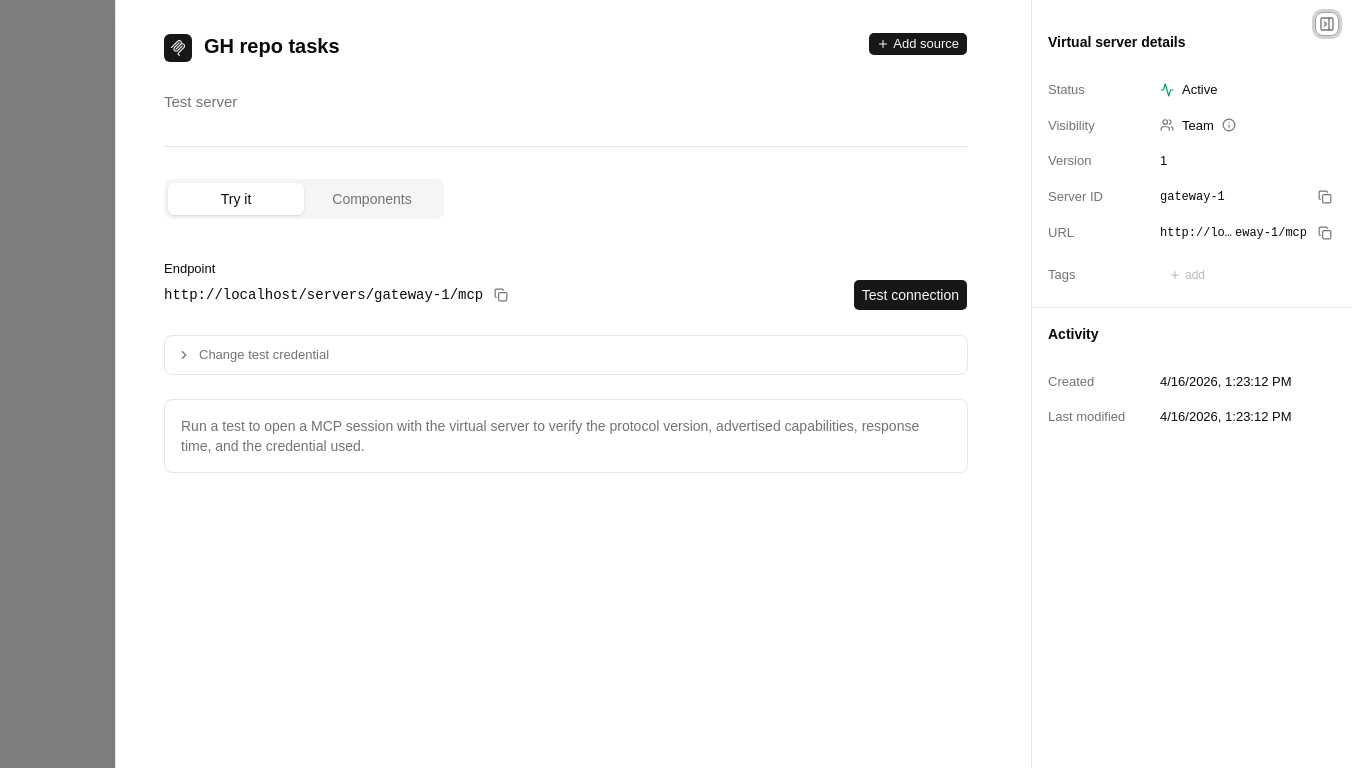
VirtualServerDetailsPanel test connection tab › excludes disabled components from the aggregate used for the handshake comparison
Step 1. Click the tab "Try it" → (236, 199), box [168, 183, 304, 215]
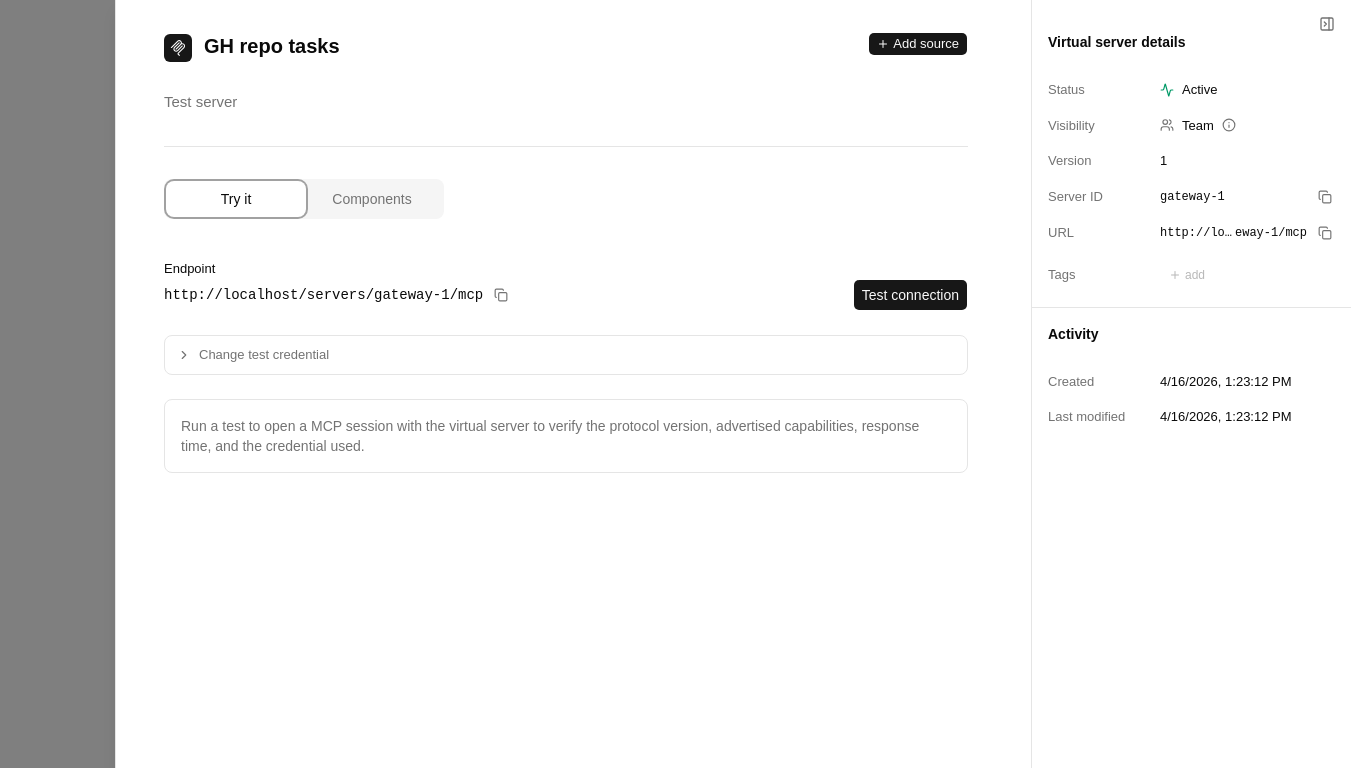
Step 2. Click the button "Test connection" → (910, 294), box [853, 278, 968, 310]
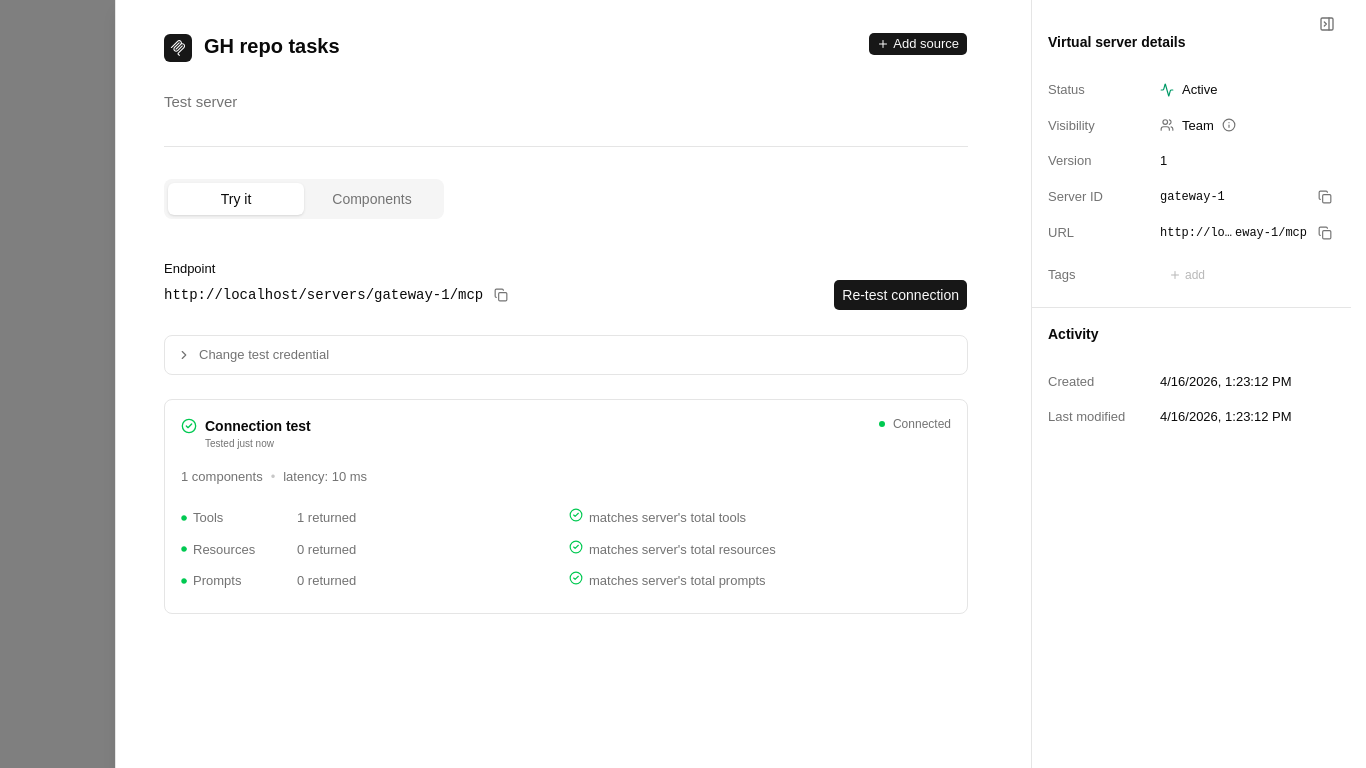
Check: the text "Connection test" is shown, box [205, 416, 311, 436]
